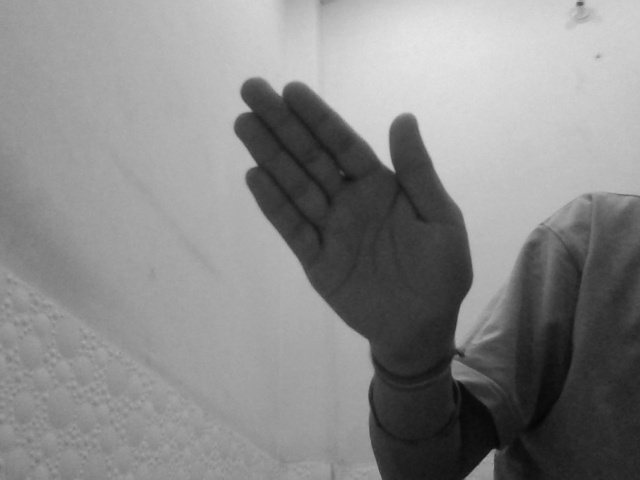Hello: (229, 74, 476, 344)
